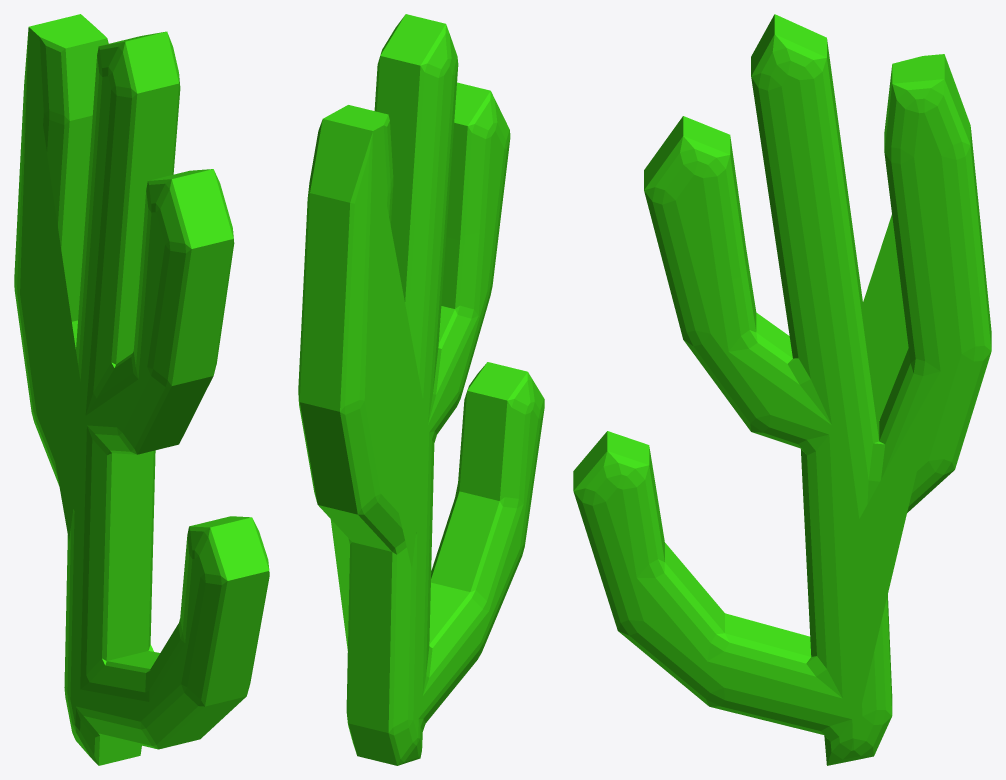
Rendered from cacti.fbx.
3 renders of one model, left to right at view 1: azimuth 30°, elevation 25°; view 2: azimuth 150°, elevation 25°; view 3: azimuth 270°, elevation 25°, orthographic. The views are drawn at different scales.
Visible parts, largest first — view 1: Plane; view 2: Plane; view 3: Plane.
Boxes of the visible parts, box(x1,y1,x2,y2) form: Plane: box(14, 14, 269, 765); Plane: box(298, 14, 544, 765); Plane: box(573, 14, 991, 765).
Bounding box in the file's own units: 37.01 × 421 × 218.
